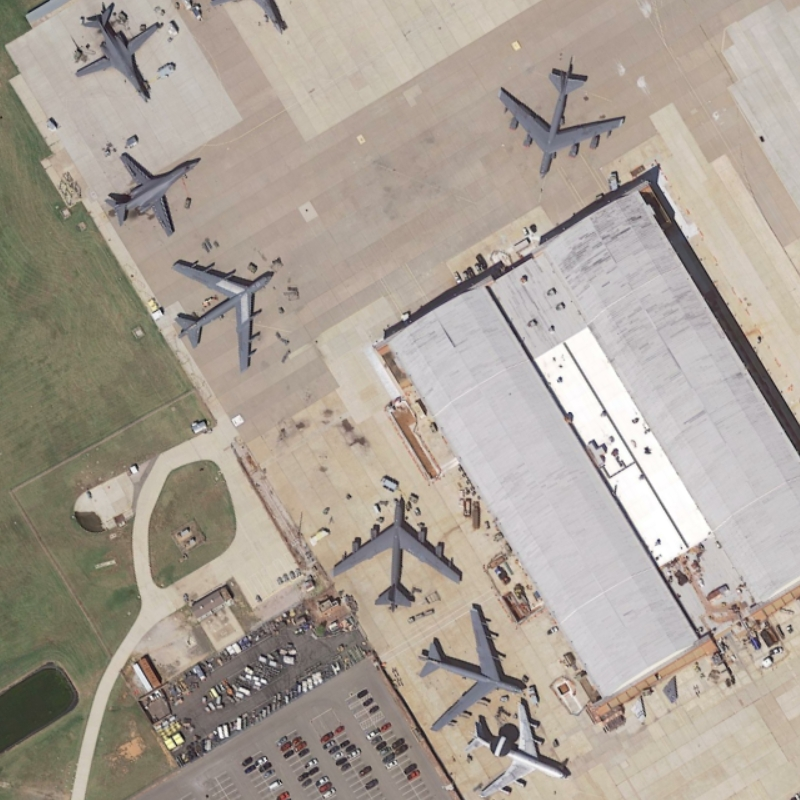A10: (97, 138, 204, 244), (67, 1, 168, 110)
A7: (456, 696, 579, 800)
A8: (326, 489, 465, 620), (494, 58, 628, 184), (411, 600, 537, 731), (154, 250, 280, 380)
